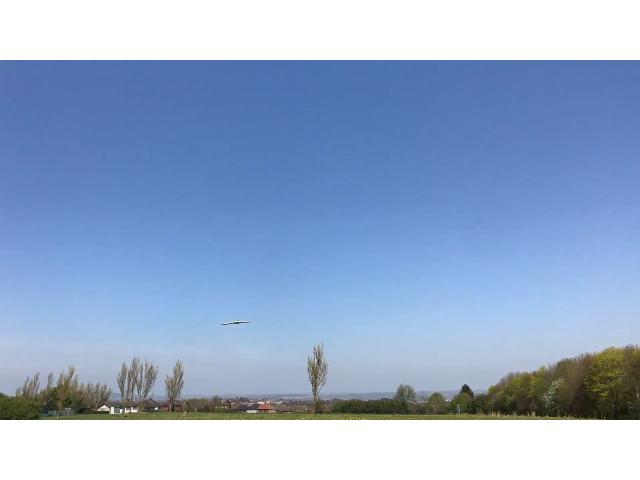Anti-Drone: (212, 310, 256, 332)
